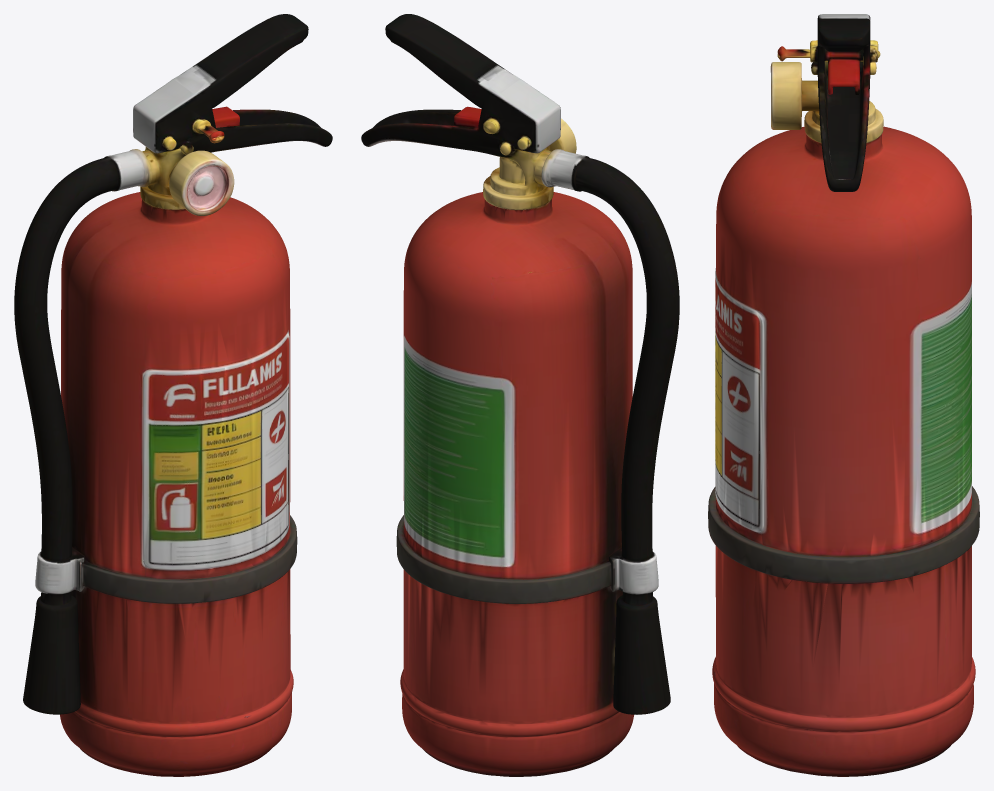
Rendered from 灭火器.glb.
3 renders of one model, left to right at view 1: azimuth 30°, elevation 25°; view 2: azimuth 150°, elevation 25°; view 3: azimuth 270°, elevation 25°, orthographic. The views are drawn at different scales.
Visible parts, largest first — view 1: node_0; view 2: node_0; view 3: node_0.
Boxes of the visible parts, bbox=[...] form: node_0: bbox=[14, 14, 332, 776]; node_0: bbox=[361, 14, 679, 776]; node_0: bbox=[708, 14, 979, 776].
Size of the model in its own units: 0.5332 by 1.12 by 0.3629.
1 material, 1 textured.
